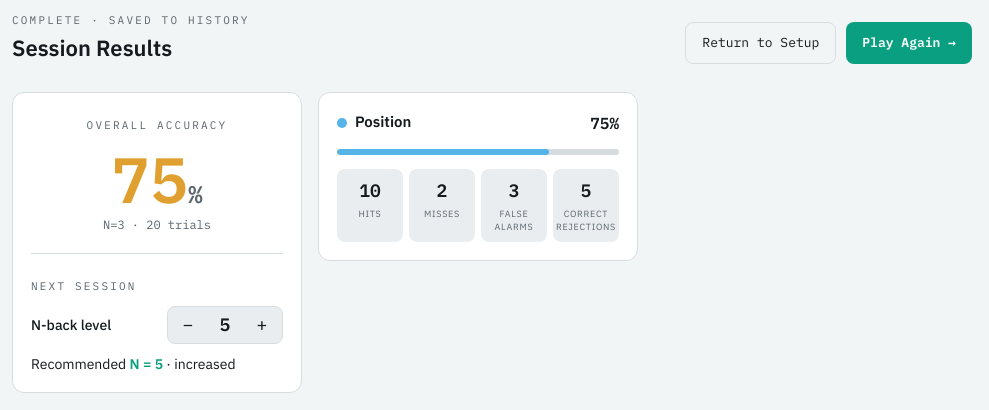
Test: SessionSummary next-session stepper › shows the adaptive note only when a recommendation is present, and it does not change when the stepper is adjusted
The width and height of the screenshot is (989, 410).
Expected: the text "N = 5" is shown, [130,354,163,372]
Expected: the text "Recommended N = 5 · increased" is shown, [31,354,236,372]
Click the button named "increase n" at (262, 324), box [245,310,279,340]
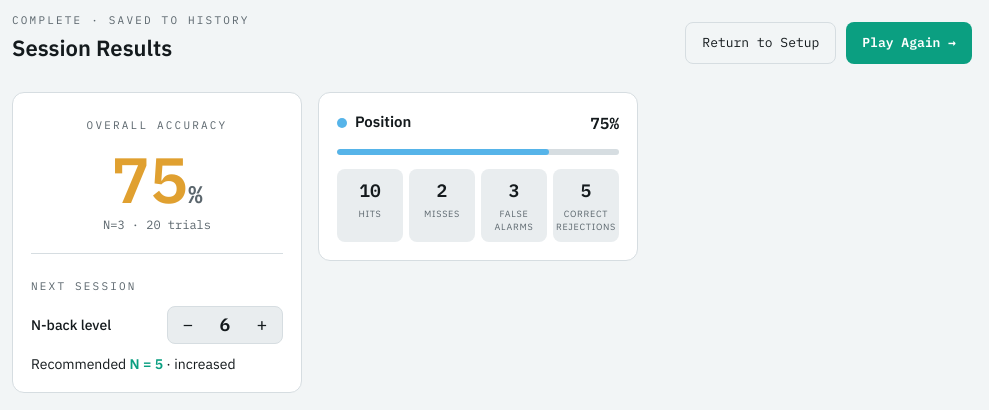
Expected: the text "N = 5" is shown, [130,354,163,372]
Result: the number field named "next session n-back level" holds "6" at [207,310,243,338]
